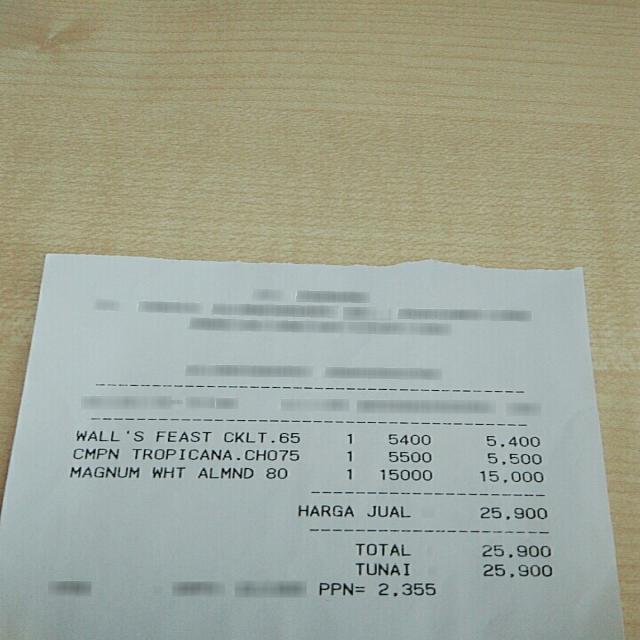kertas: (2, 254, 624, 640)
